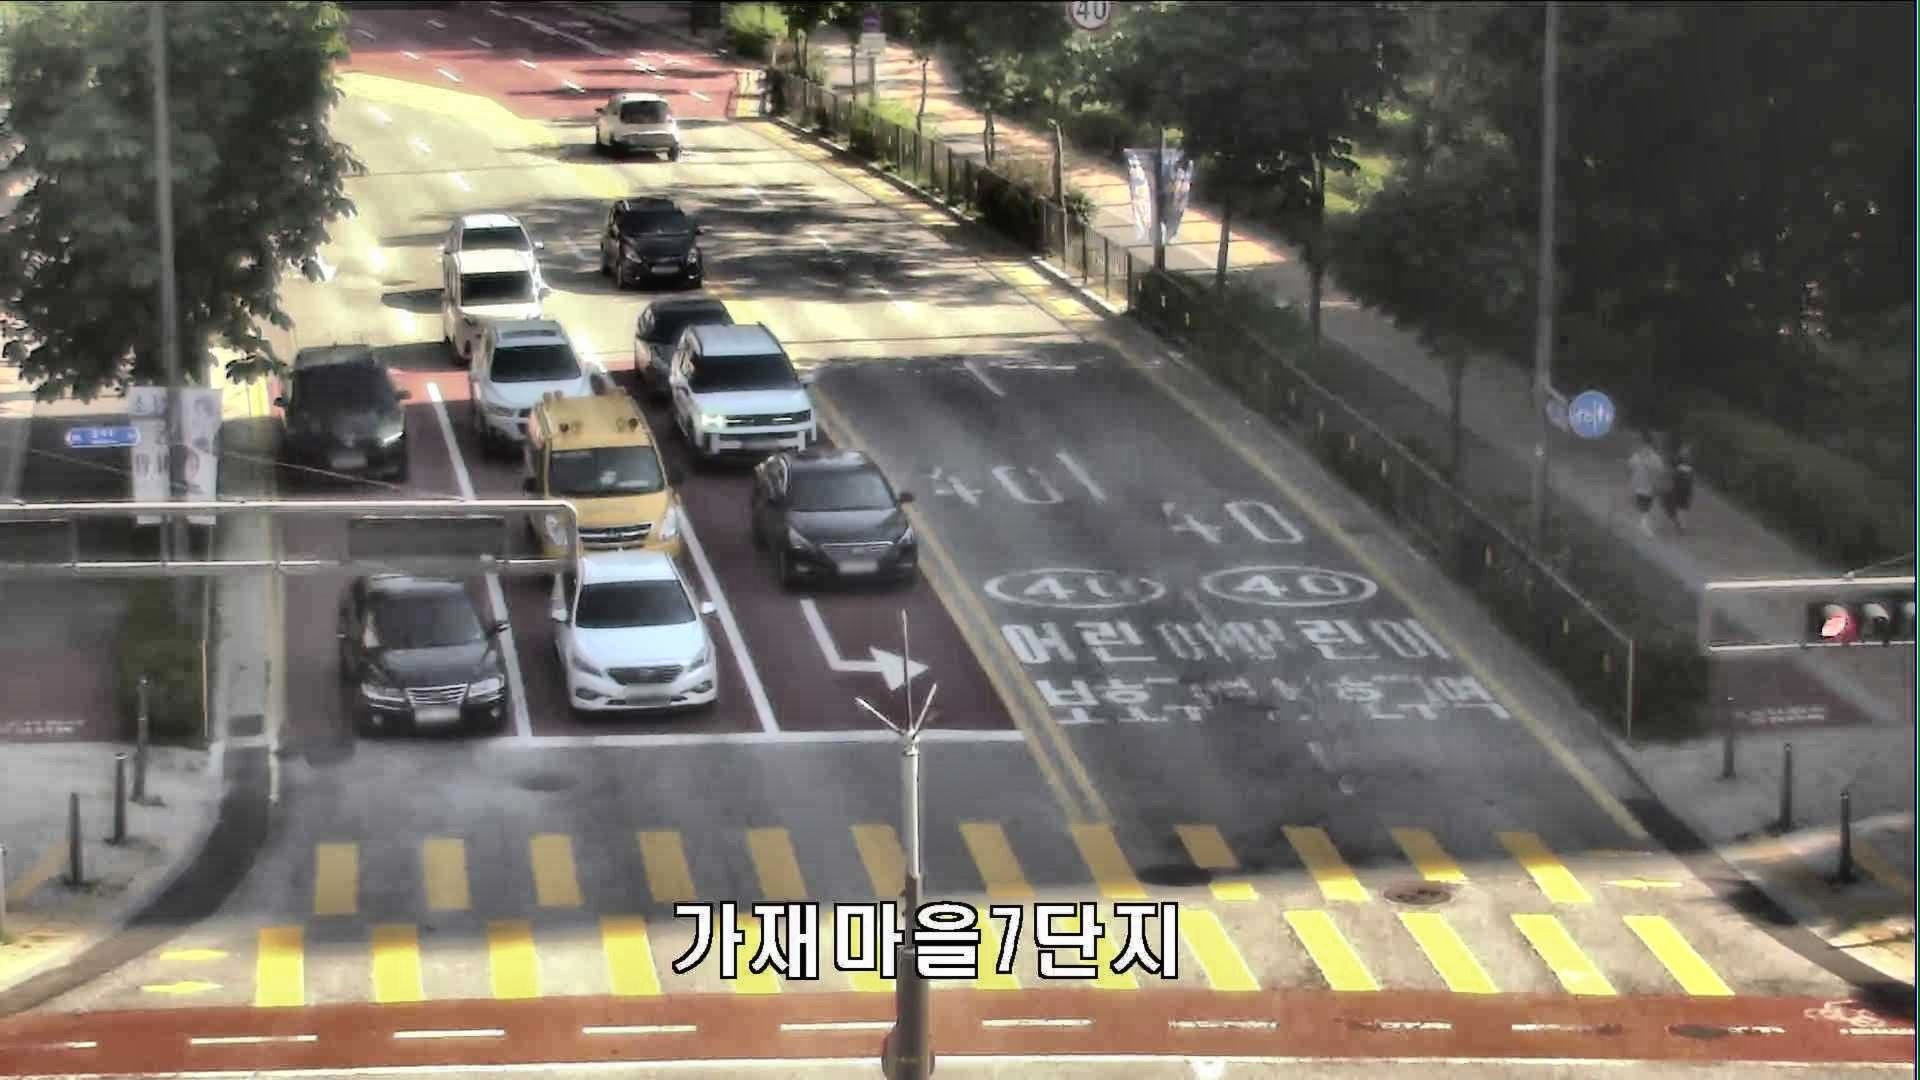sidewalk: (1622, 434, 1664, 537), (1667, 435, 1700, 533)
